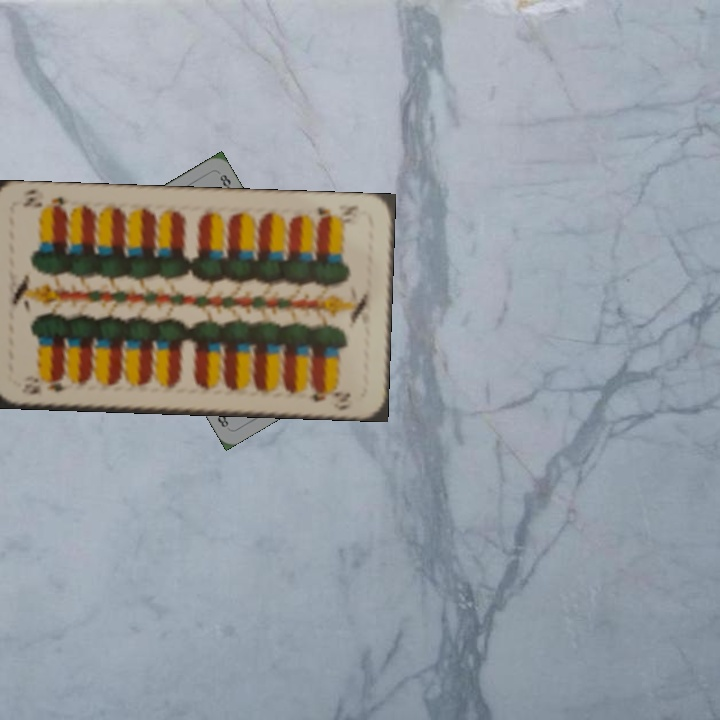E10: (313, 201, 361, 225), (25, 375, 73, 397)
